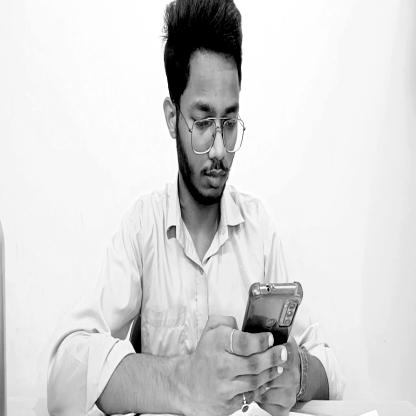Distracted: (164, 4, 250, 213)
